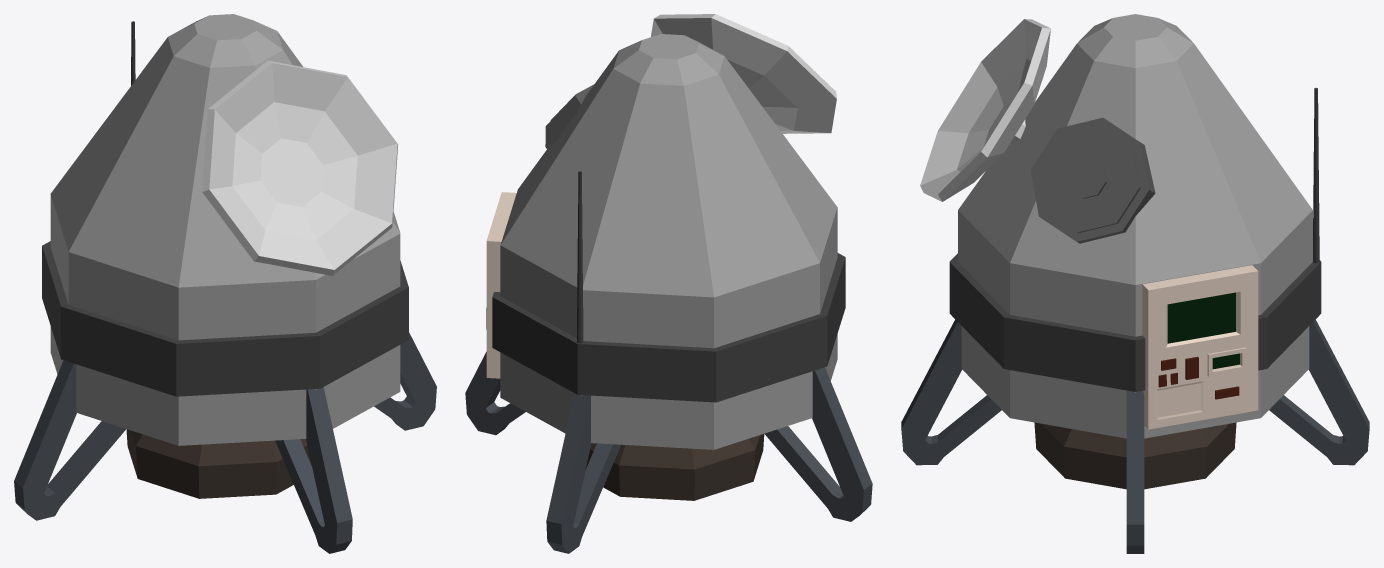
File: Landing-Probe.fbx
The picture shows the model from 3 angles, left to right: view 1: azimuth 30°, elevation 25°; view 2: azimuth 150°, elevation 25°; view 3: azimuth 270°, elevation 25°; orthographic projection. The views are drawn at different scales.
Visible parts, largest first — view 1: Body, DIsh, Leg.002, Leg.003, Leg; view 2: Body, DIsh, Leg.002, Leg.001, Panel, Leg, Antenna, Hatch; view 3: Body, Panel, DIsh, Hatch, Leg.001, Leg.003, Leg, Antenna.
Boxes of the visible parts, box(x1,y1,x2,y2) form: Body: box(42, 14, 408, 498); DIsh: box(202, 60, 398, 275); Leg.002: box(14, 360, 125, 520); Leg.003: box(275, 387, 352, 553); Leg: box(374, 332, 436, 430); Body: box(492, 34, 845, 500); DIsh: box(651, 14, 836, 133); Leg.002: box(764, 367, 872, 521); Leg.001: box(546, 393, 620, 553); Panel: box(486, 192, 516, 378); Leg: box(465, 351, 525, 435); Antenna: box(577, 171, 583, 343); Hatch: box(545, 84, 593, 148); Body: box(949, 14, 1321, 489); Panel: box(1142, 265, 1258, 429); DIsh: box(920, 19, 1050, 201); Hatch: box(1030, 117, 1155, 243); Leg.001: box(1269, 319, 1369, 465); Leg.003: box(901, 319, 1001, 465); Leg: box(1126, 390, 1144, 553); Antenna: box(1313, 87, 1319, 263).
Size of the model in its own units: 2.64 by 2.7 by 2.64.
